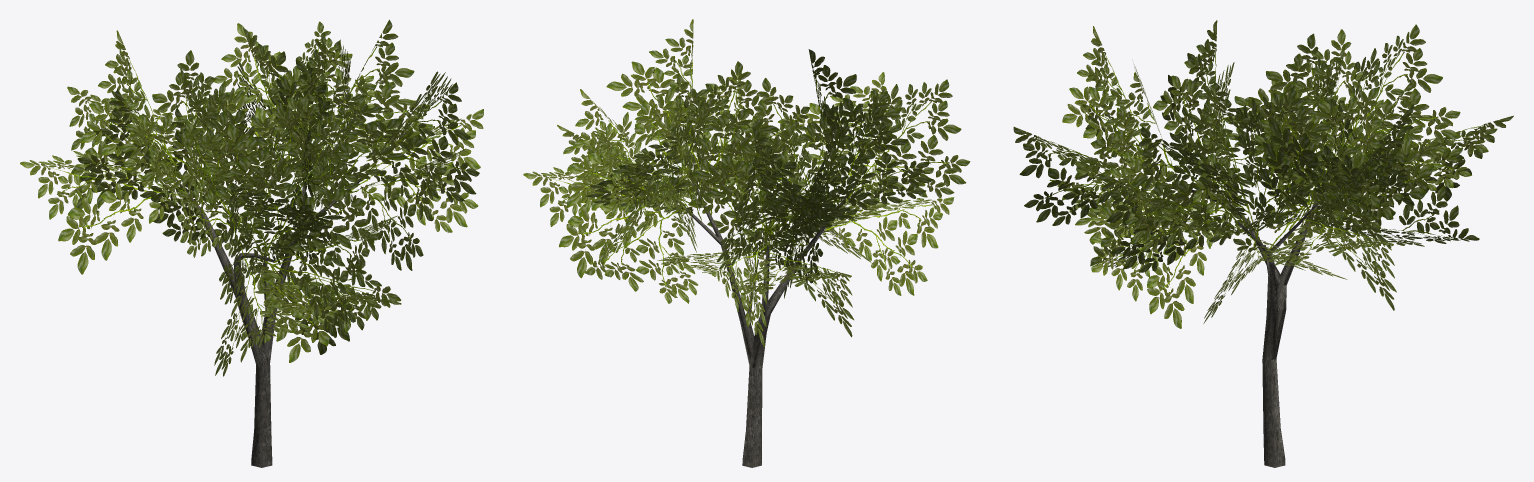
File: Tree-B-04.fbx
3 views of the same model, side by side, from view 1: azimuth 30°, elevation 25°; view 2: azimuth 150°, elevation 25°; view 3: azimuth 270°, elevation 25° (orthographic). The views are drawn at different scales.
Parts seen in each view (by area): view 1: Tree-B-04; view 2: Tree-B-04; view 3: Tree-B-04.
Boxes of the visible parts, x1,y1,x2,y2 form: Tree-B-04: (20, 19, 483, 467); Tree-B-04: (523, 19, 970, 467); Tree-B-04: (1013, 20, 1513, 467).
Size of what is drawn, in the model's own units: 7.89 by 7.8 by 8.69.
